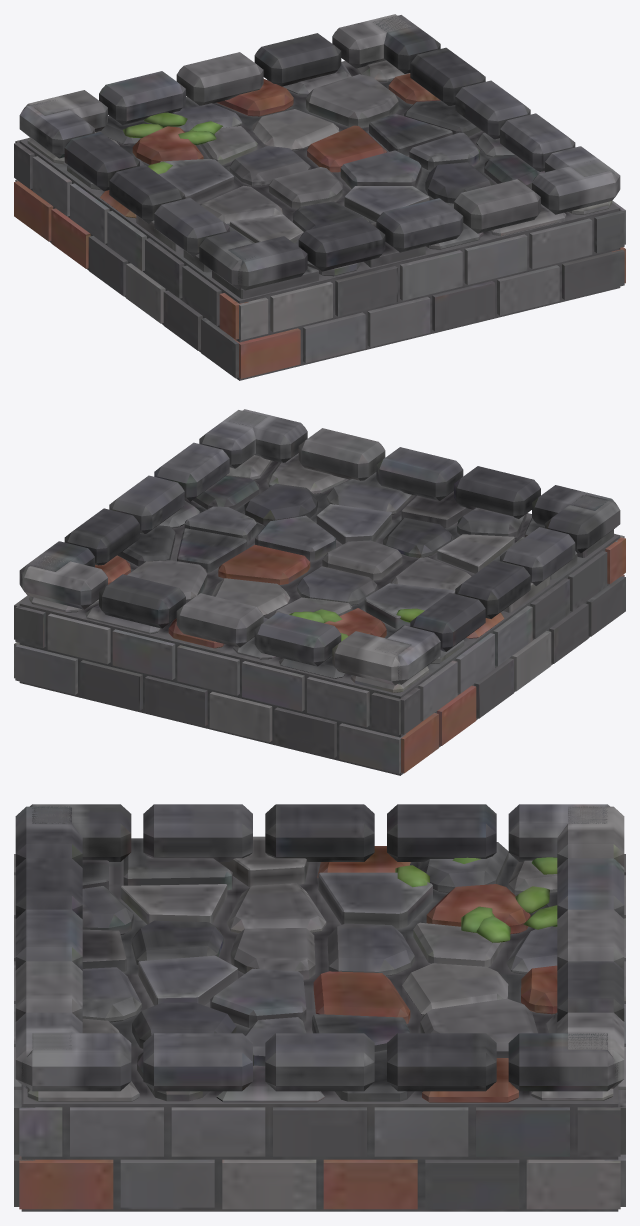
The model's file is plate_2_neutral.glb.
3 renders of one model, top to bottom at view 1: azimuth 30°, elevation 25°; view 2: azimuth 150°, elevation 25°; view 3: azimuth 270°, elevation 25°, orthographic. The views are drawn at different scales.
Visible parts, largest first — view 1: plate_2_neutral; view 2: plate_2_neutral; view 3: plate_2_neutral.
Boxes of the visible parts, box(x1,y1,x2,y2) form: plate_2_neutral: box(14, 14, 625, 380); plate_2_neutral: box(14, 409, 625, 775); plate_2_neutral: box(14, 804, 625, 1211).
Bounding box in the file's own units: 2.01 × 0.57 × 2.01.
Materials: 1 (1 with a texture image).
